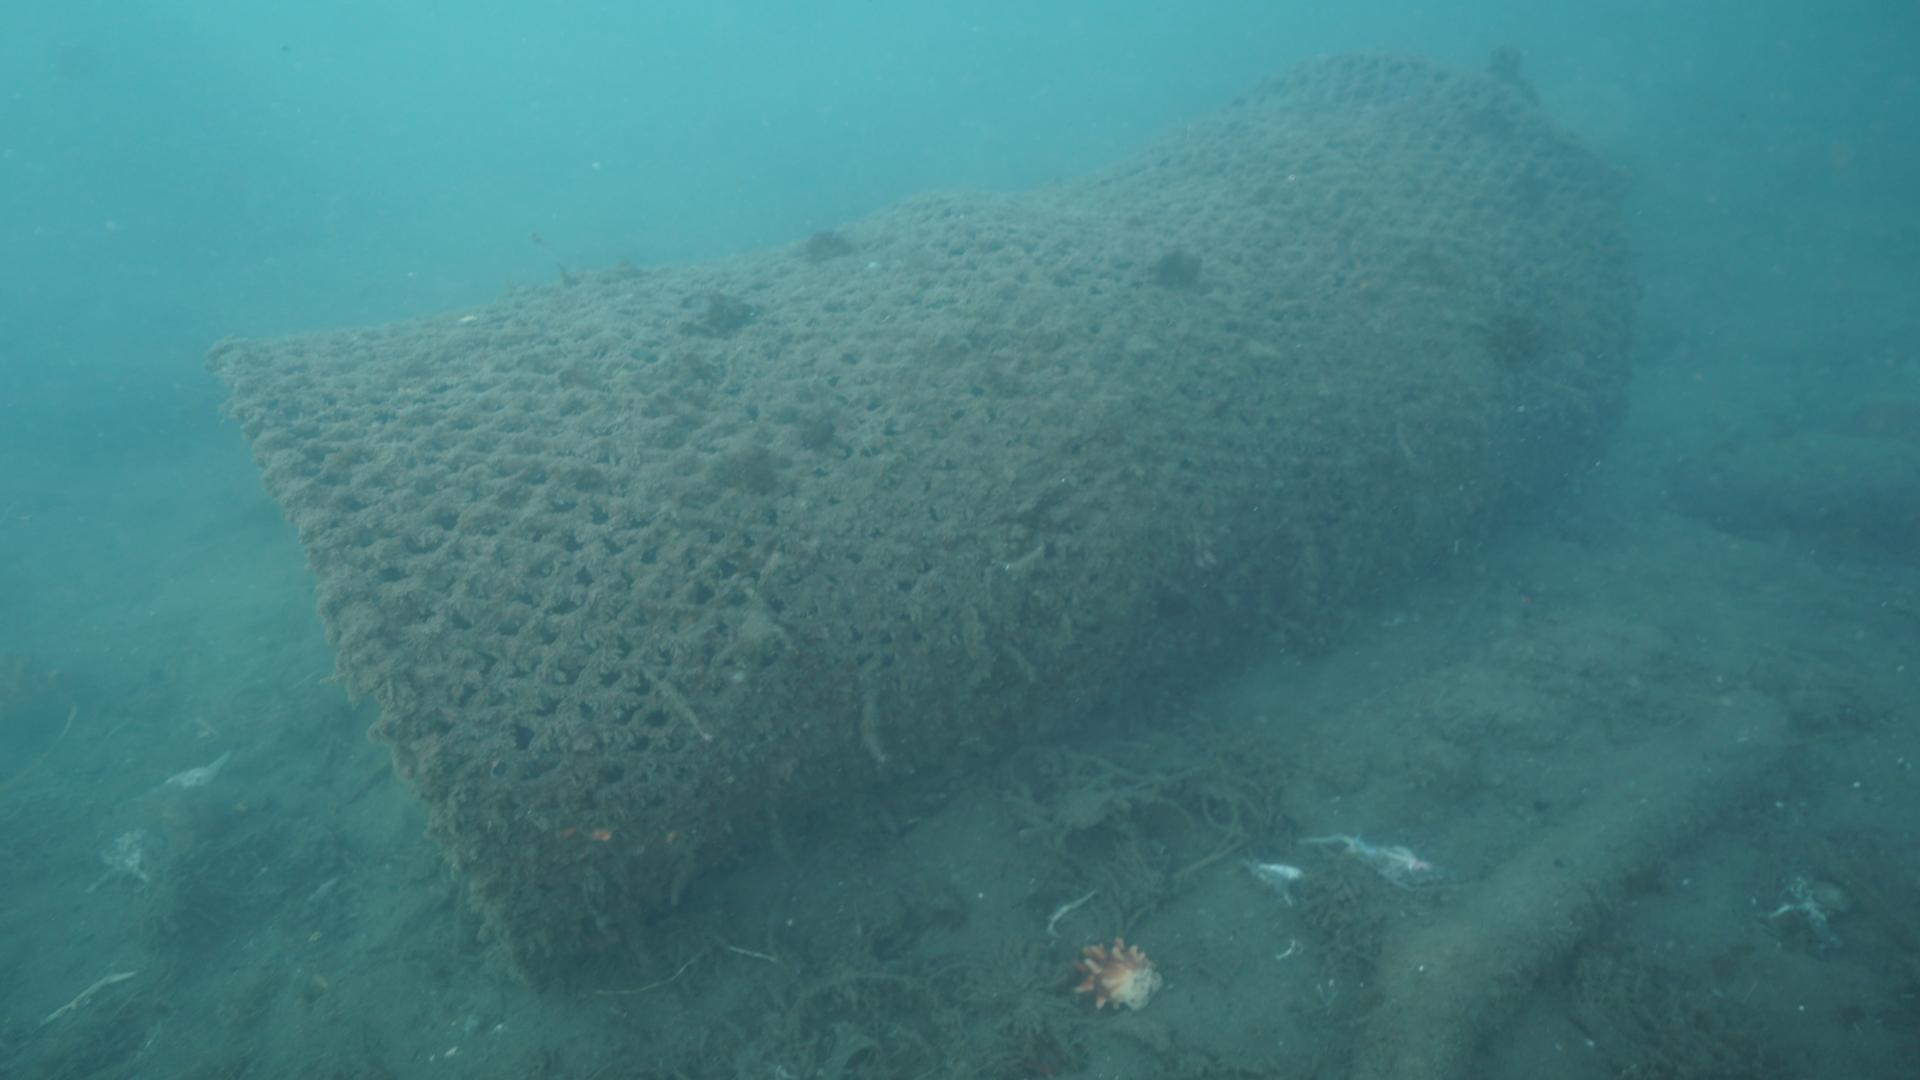spring fish trap: (203, 42, 1652, 1000)
